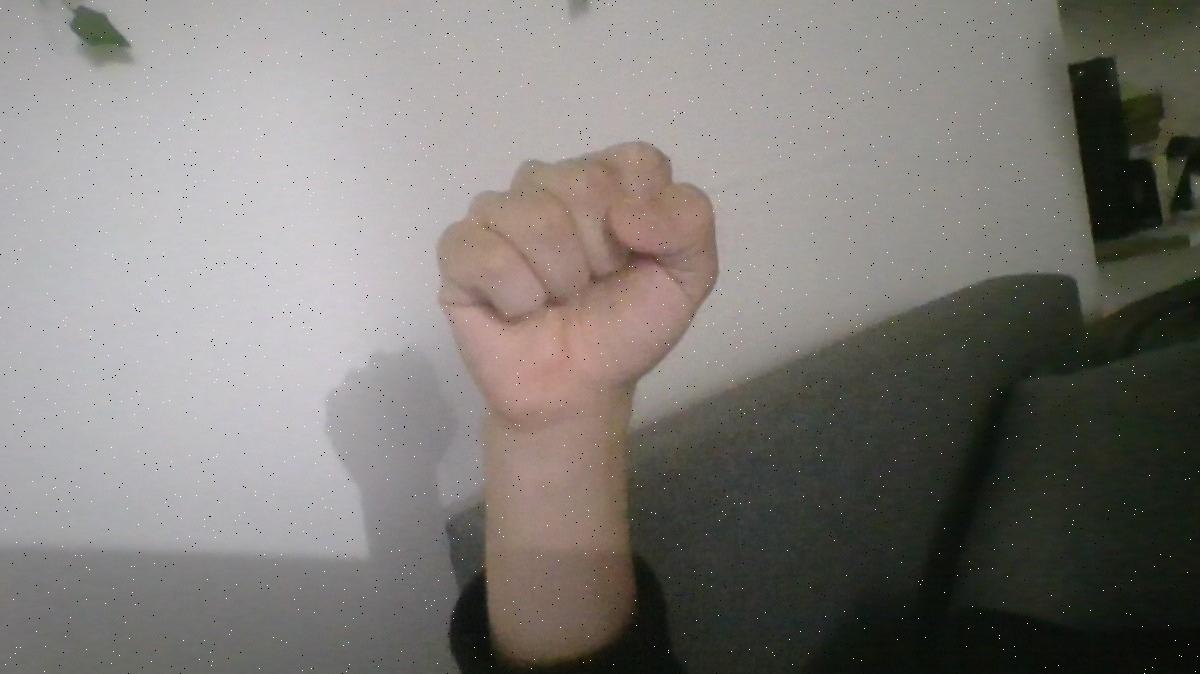stop: (409, 121, 733, 463)
